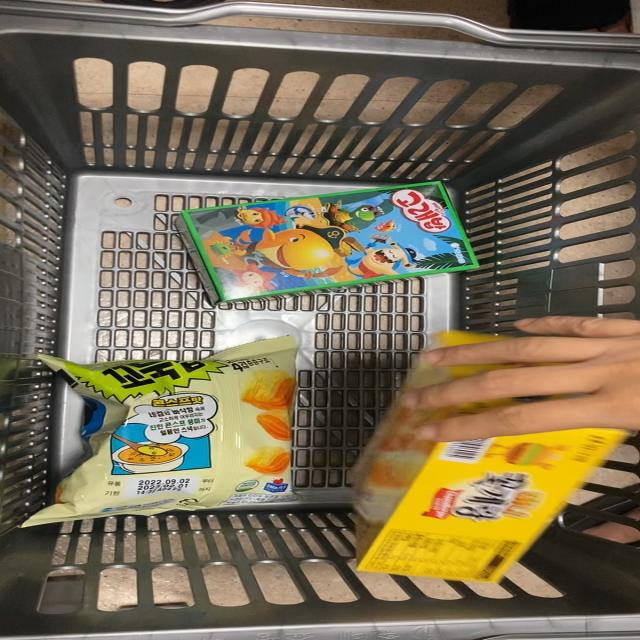ggobukchip: (34, 342, 295, 512)
goraebob: (161, 182, 499, 296)
minicrab: (348, 325, 590, 589)
